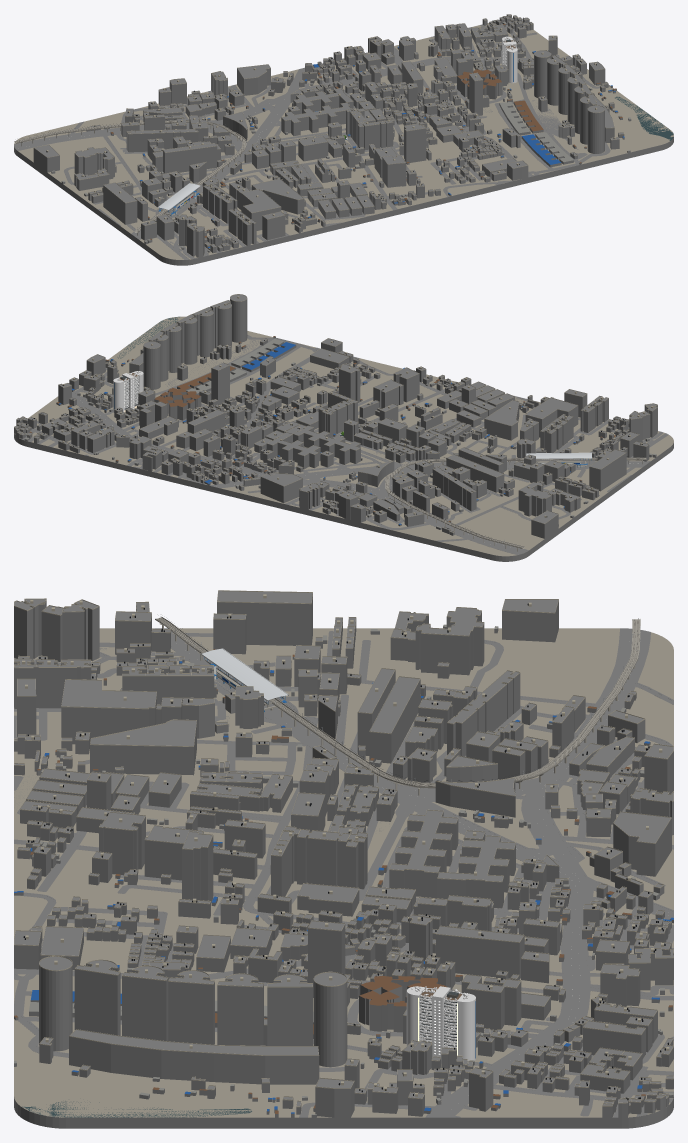
File: te-workcations.glb
The picture shows the model from 3 angles, top to bottom: view 1: azimuth 30°, elevation 25°; view 2: azimuth 150°, elevation 25°; view 3: azimuth 270°, elevation 25°; orthographic projection. The views are drawn at different scales.
Parts seen in each view (by area): view 1: context, ground, plinth, rooftops, metro, stations, opt_te-workcations; view 2: context, ground, plinth, rooftops, metro, opt_te-workcations, stations; view 3: context, ground, plinth, rooftops, opt_te-workcations, metro, stations.
Part boxes in pixels (left/top/right/bottom): context: left=33, top=14, right=631, bottom=257; ground: left=14, top=23, right=673, bottom=259; plinth: left=14, top=137, right=673, bottom=265; rooftops: left=46, top=17, right=615, bottom=245; metro: left=14, top=119, right=246, bottom=235; stations: left=157, top=183, right=200, bottom=216; opt_te-workcations: left=502, top=36, right=517, bottom=83; context: left=14, top=294, right=657, bottom=538; ground: left=14, top=316, right=673, bottom=556; plinth: left=14, top=433, right=673, bottom=561; rooftops: left=19, top=296, right=653, bottom=528; metro: left=385, top=456, right=646, bottom=551; opt_te-workcations: left=113, top=371, right=143, bottom=412; stations: left=526, top=452, right=591, bottom=467; context: left=14, top=590, right=673, bottom=1117; ground: left=14, top=628, right=673, bottom=1117; plinth: left=14, top=1097, right=673, bottom=1128; rooftops: left=22, top=594, right=669, bottom=1100; opt_te-workcations: left=406, top=986, right=475, bottom=1062; metro: left=155, top=616, right=640, bottom=795; stations: left=201, top=648, right=288, bottom=711.
Bounding box in the file's own units: 1335 × 119 × 760.
